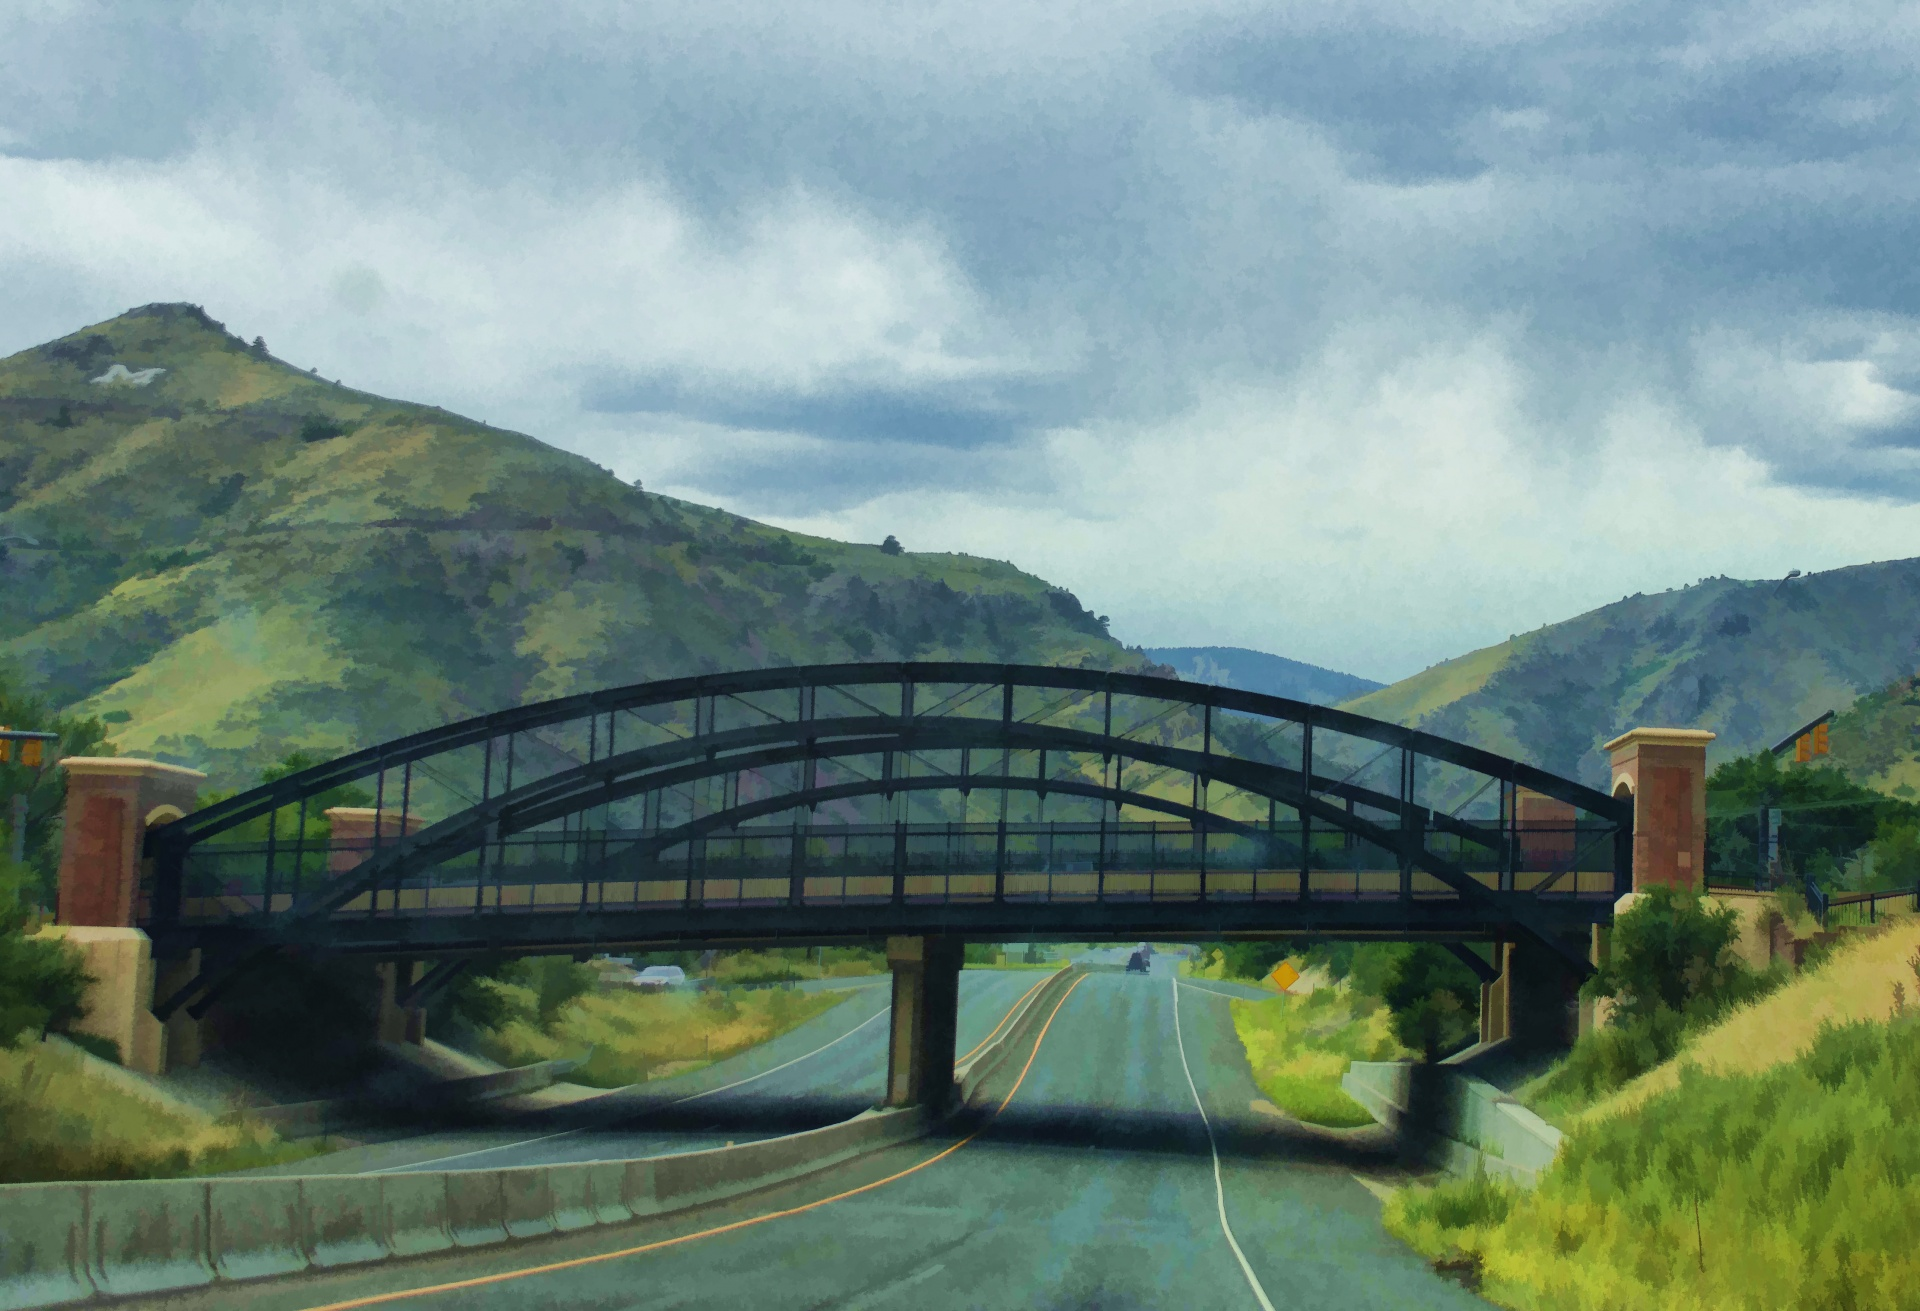bridge: (140, 661, 1630, 927)
